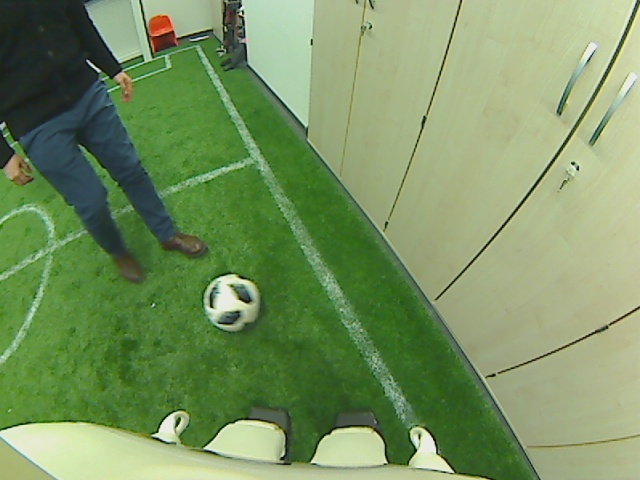ball: (203, 274, 262, 331)
